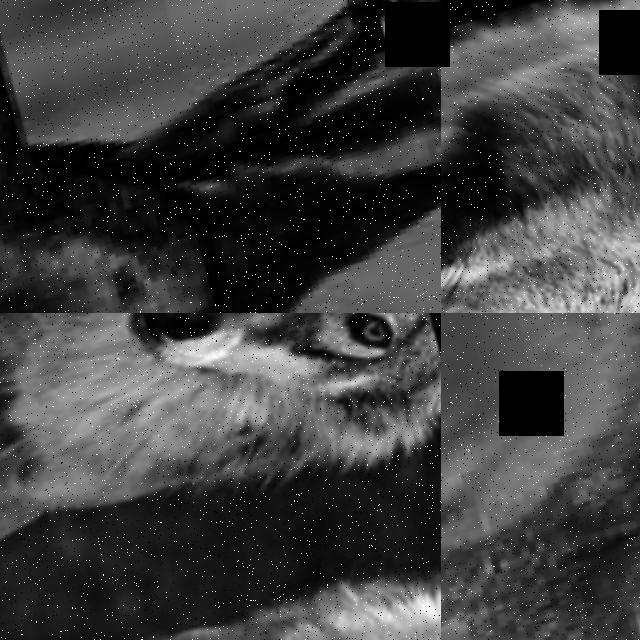dog: (0, 0, 441, 313), (441, 313, 640, 640)
wolf: (0, 313, 441, 640), (0, 488, 441, 640), (441, 0, 640, 313)
